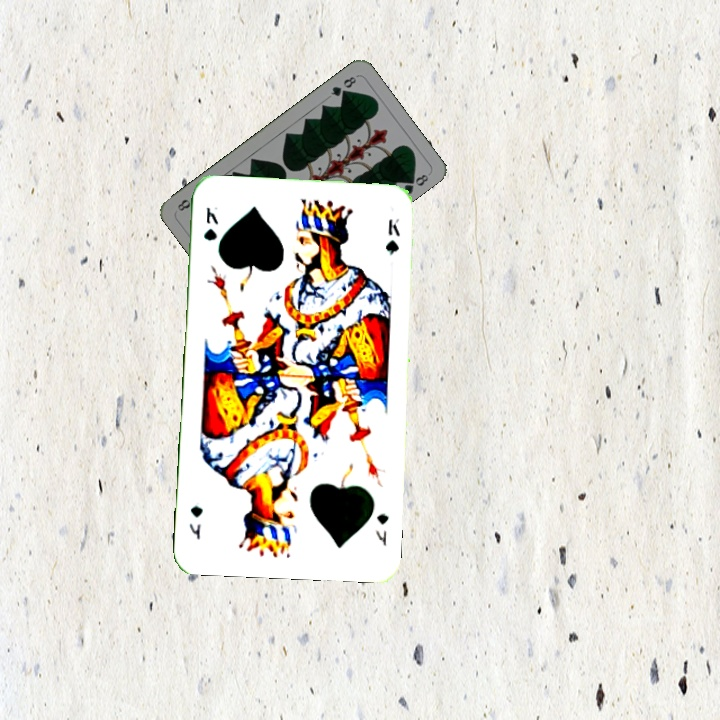G8: (326, 72, 359, 99)
GK: (200, 203, 221, 244), (372, 509, 391, 549)
